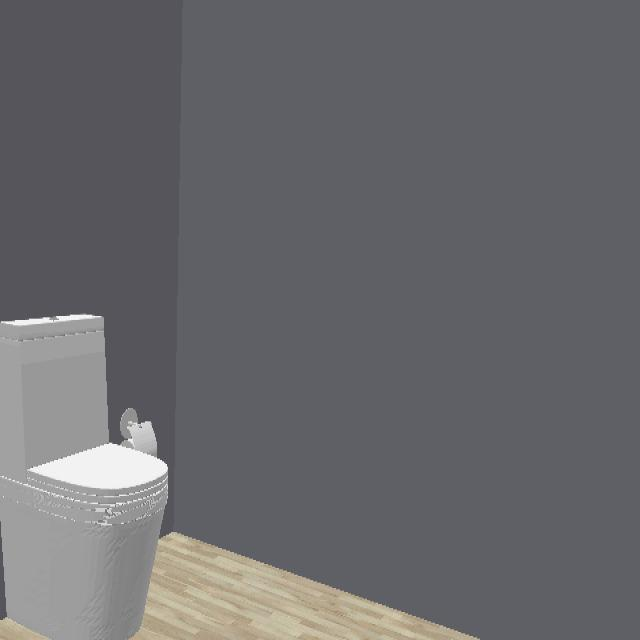toilet: (0, 317, 168, 637)
